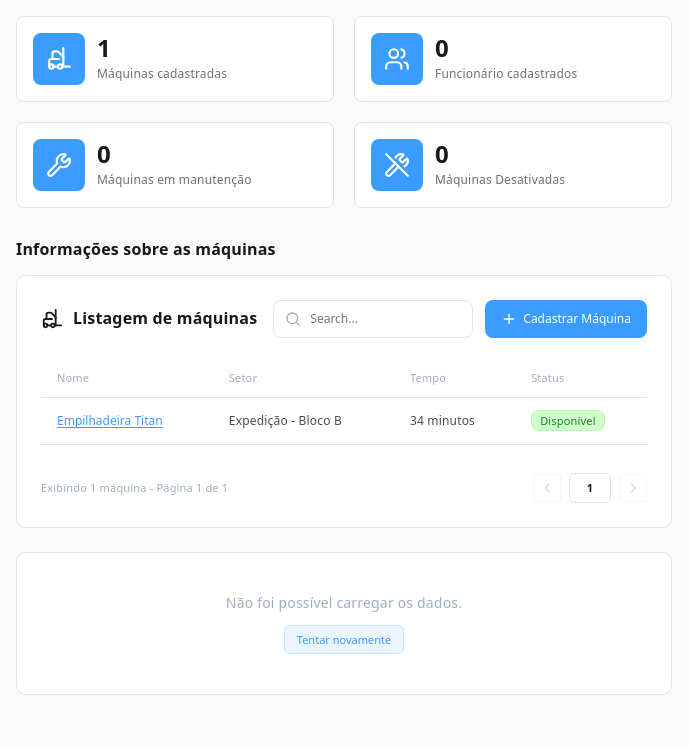
Test case: DashboardPage › isolates sessionService error: heatmap shows error while table remains intact
(page scrolled)
Expected: the heading "Listagem de máquinas" is shown, [73,309,257,328]
Expected: the button "Empilhadeira Titan" is shown, [57,412,163,430]
Click the button "Tentar novamente".
click(344, 640)  # box [284,625,404,654]
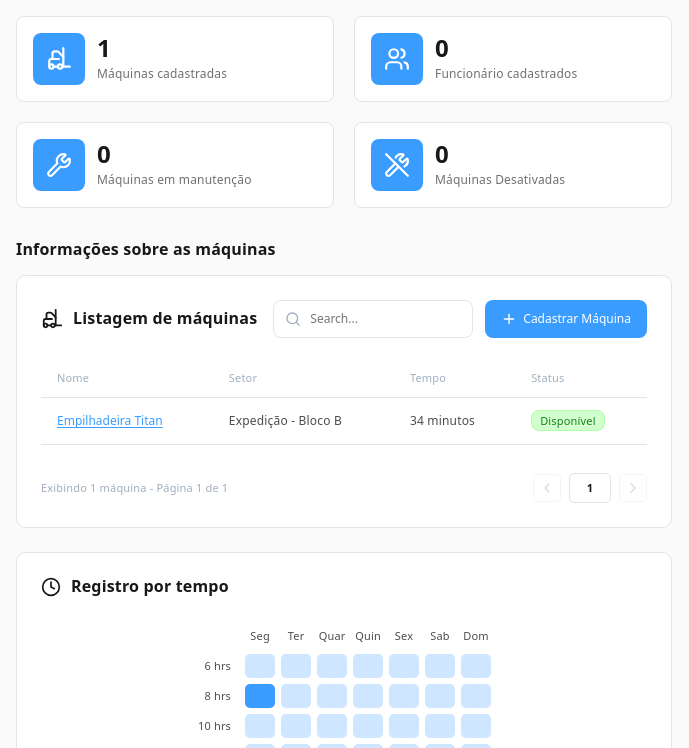
Now the heading "Registro por tempo" is shown, box [71,577,229,596]
